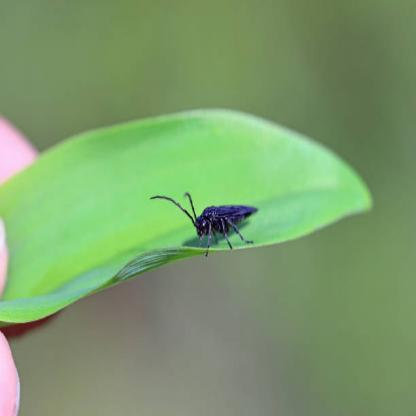sawfly: (153, 186, 259, 256)
